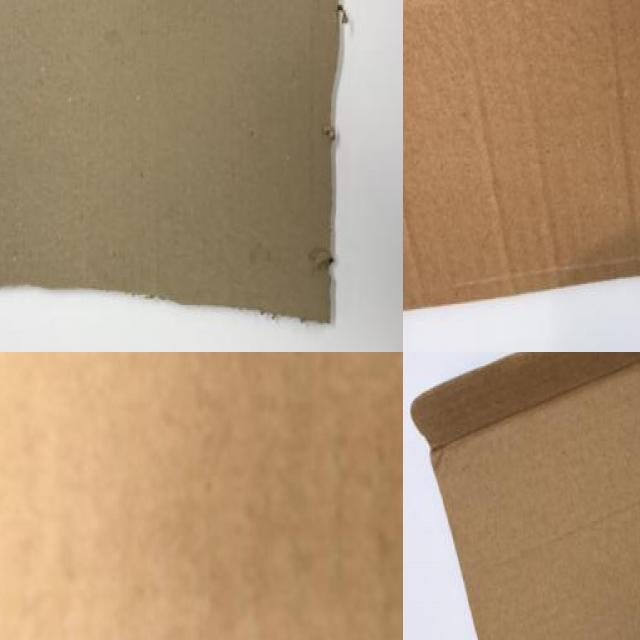class_name: (0, 352, 403, 640), (0, 0, 346, 326), (403, 0, 640, 319), (409, 352, 640, 640)
